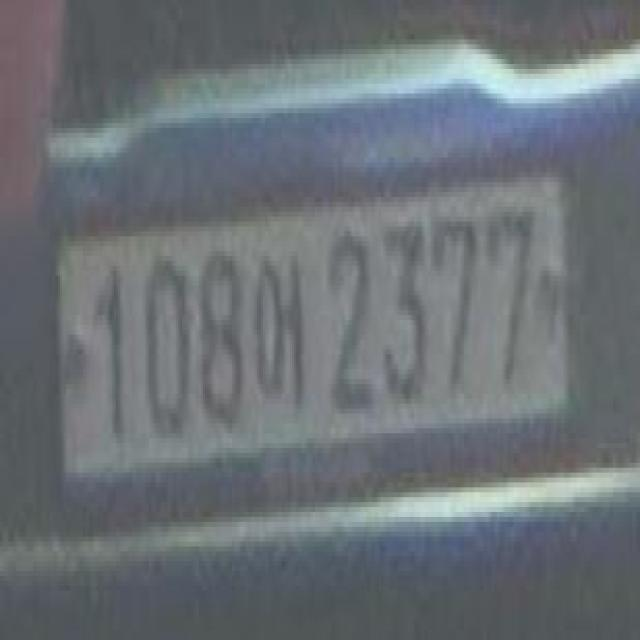illegal_plate: (56, 172, 578, 491)
